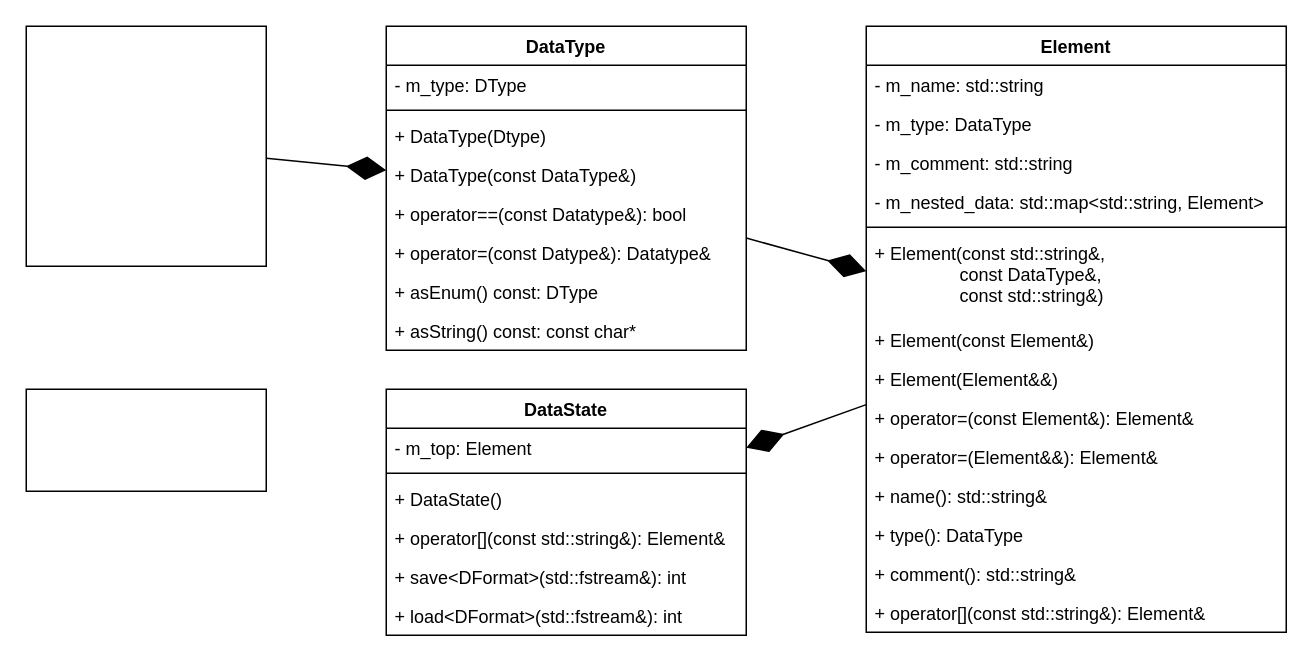
The diagram is 1313 pixels wide and 666 high, and some of its shapes have lost their labels. Here are the shapes that lost their labels. From the top down, the centre of each, then its label:
At point (145, 145): "<<enumeration>> DType NotImplemented None Integer Real String Array Map".
At point (145, 439): "<<enumeration>> DFormat JSON".
